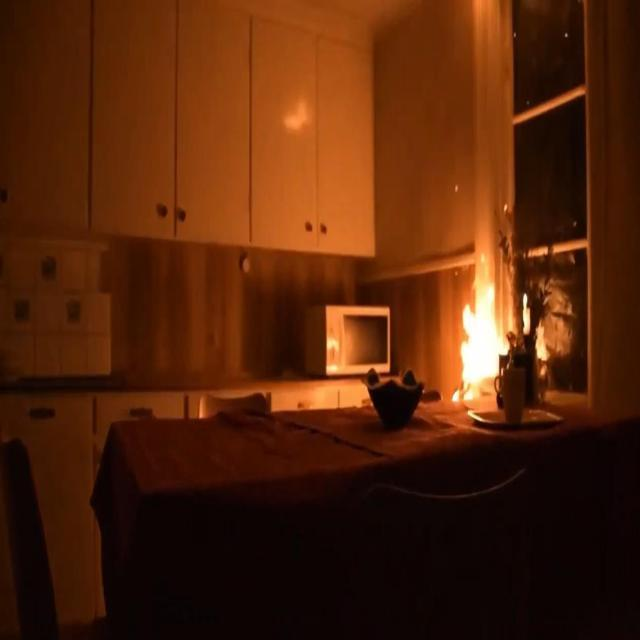smoke: (448, 272, 507, 402), (522, 289, 530, 309)
